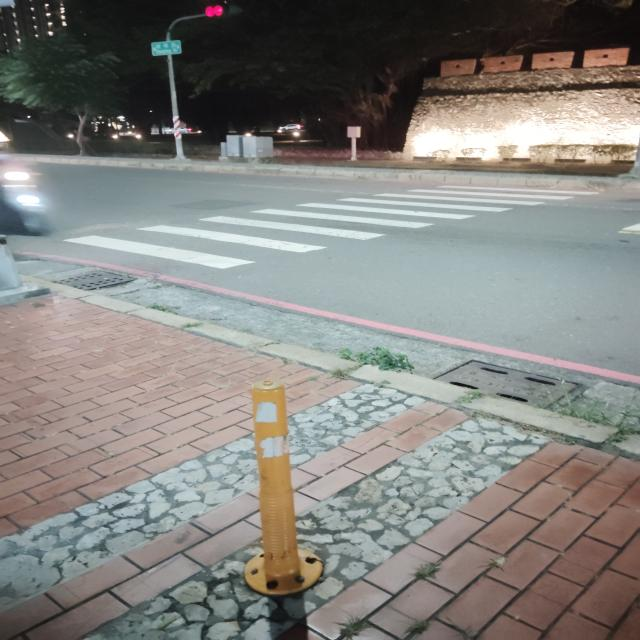zebra crossing: (84, 185, 588, 274)
